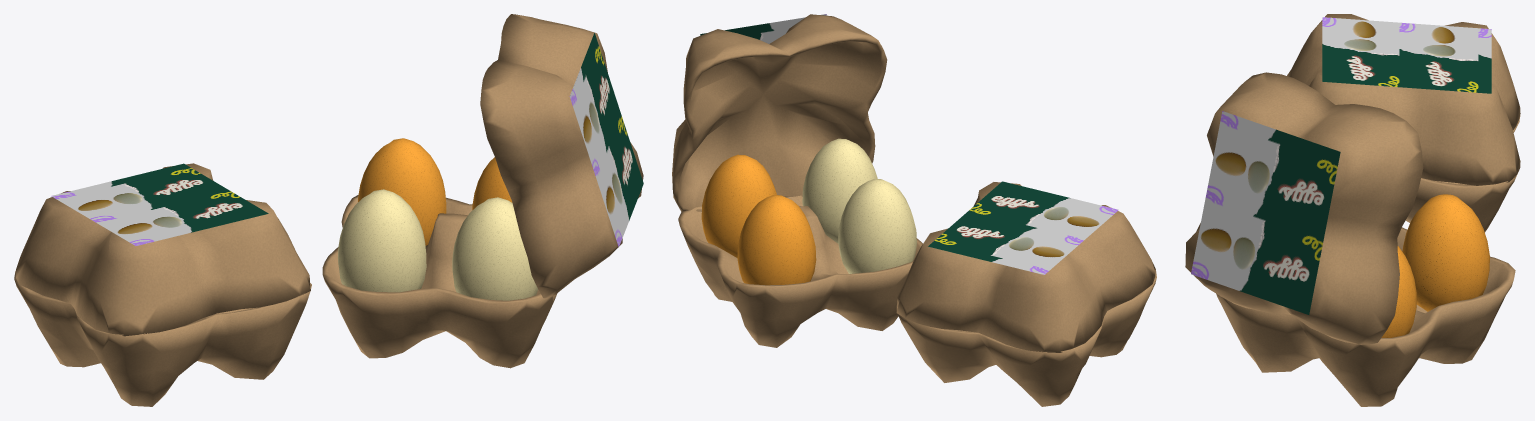
File: some_eggs.glb
The picture shows the model from 3 angles, left to right: view 1: azimuth 30°, elevation 25°; view 2: azimuth 150°, elevation 25°; view 3: azimuth 270°, elevation 25°; orthographic projection. The views are drawn at different scales.
Visible parts, largest first — view 1: eggpackage.001_4, eggpackage.003_6, eggpackage_5, eggpackage.002_7, eggwhite.002_3, eggwhite.001_2, egg.002_1, egg.001_0; view 2: eggpackage.001_4, eggpackage.003_6, eggpackage.002_7, eggpackage_5, eggwhite.002_3, egg.002_1, egg.001_0, eggwhite.001_2; view 3: eggpackage.003_6, eggpackage.001_4, eggpackage.002_7, egg.002_1, eggpackage_5, egg.001_0.
Part boxes in pixels (<box>): eggpackage.001_4: <box>15,163,310,336</box>; eggpackage.003_6: <box>480,14,643,298</box>; eggpackage_5: <box>14,271,311,406</box>; eggpackage.002_7: <box>322,195,557,368</box>; eggwhite.002_3: <box>338,189,426,292</box>; eggwhite.001_2: <box>452,197,538,300</box>; egg.002_1: <box>358,138,446,245</box>; egg.001_0: <box>472,157,512,209</box>; eggpackage.001_4: <box>896,181,1155,352</box>; eggpackage.003_6: <box>672,14,887,211</box>; eggpackage.002_7: <box>678,195,922,347</box>; eggpackage_5: <box>895,269,1156,406</box>; eggwhite.002_3: <box>838,179,916,273</box>; egg.002_1: <box>737,195,816,285</box>; egg.001_0: <box>701,154,776,257</box>; eggwhite.001_2: <box>802,138,877,243</box>; eggpackage.003_6: <box>1185,72,1423,344</box>; eggpackage.001_4: <box>1287,14,1520,185</box>; eggpackage.002_7: <box>1216,227,1515,406</box>; egg.002_1: <box>1402,194,1489,311</box>; eggpackage_5: <box>1405,115,1520,232</box>; egg.001_0: <box>1381,246,1416,337</box>.
Bounding box in the file's own units: 2.83 × 1.41 × 1.52.
3 materials, 3 textured.
